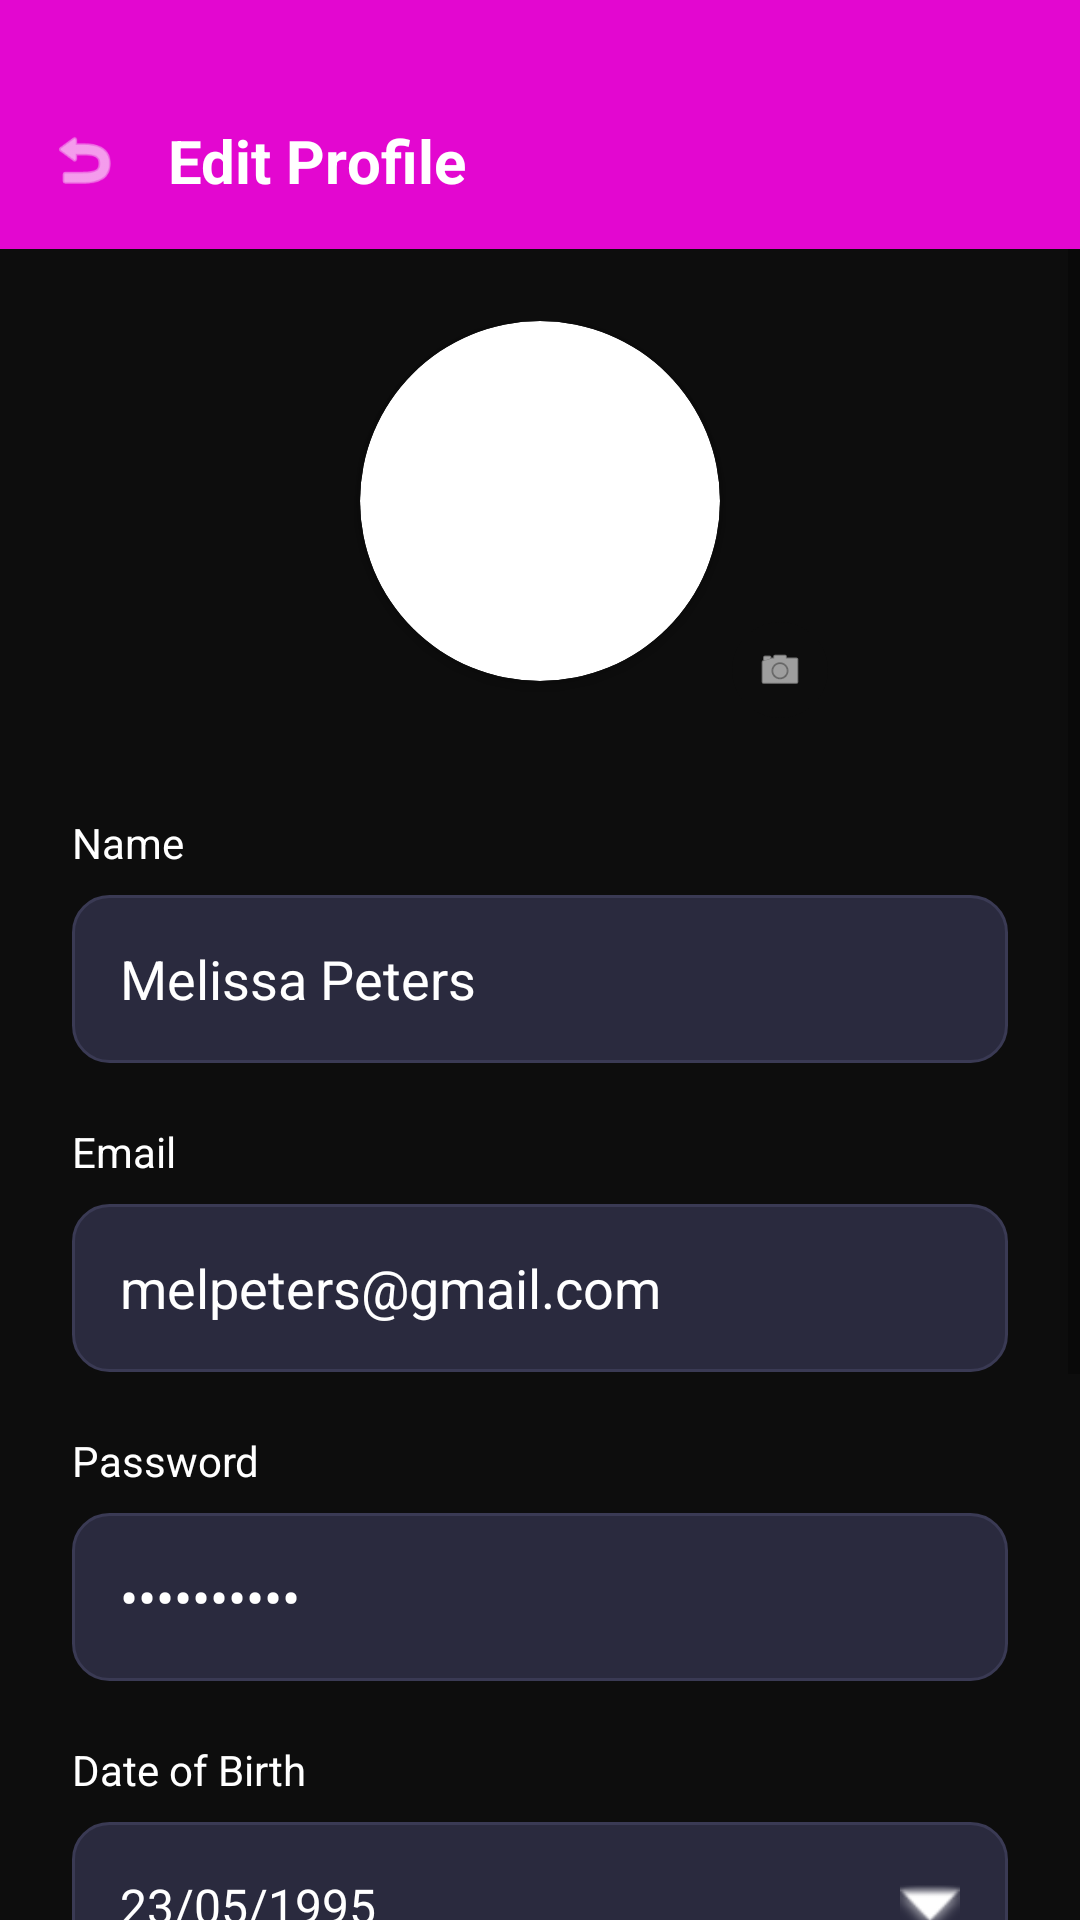

Where to tap for icons on this 1080*1920 app screen, as [x,y]:
camera: [780,669]
revert: [85,160]
